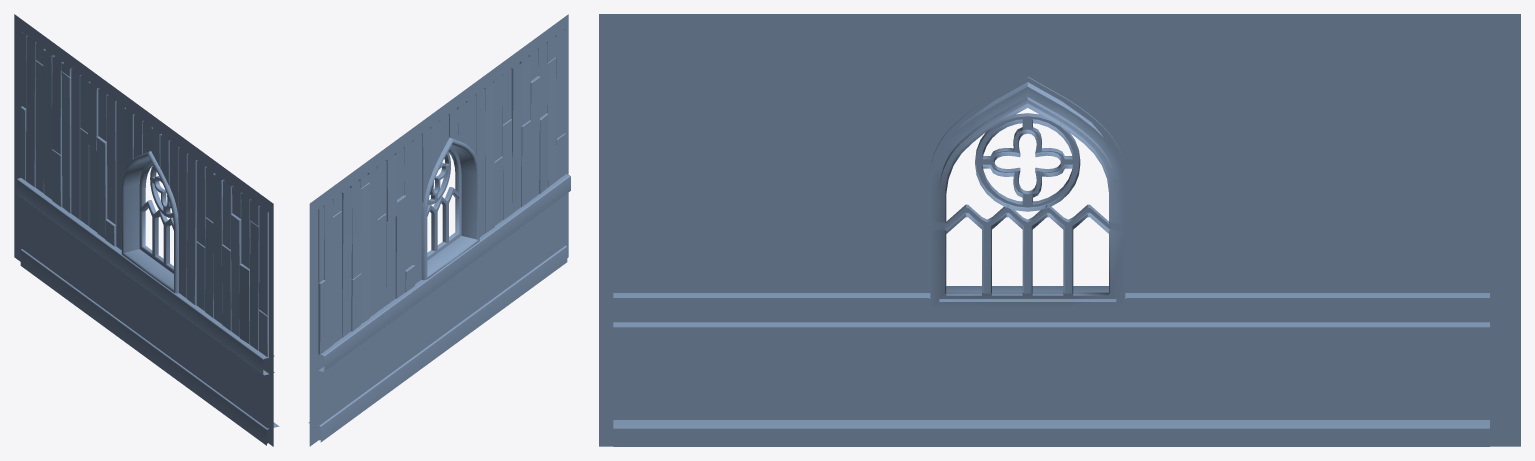
The model's file is HalloweenRoomA_EastWall.fbx.
The picture shows the model from 3 angles, left to right: view 1: azimuth 30°, elevation 25°; view 2: azimuth 150°, elevation 25°; view 3: azimuth 270°, elevation 25°; orthographic projection. The views are drawn at different scales.
Parts seen in each view (by area): view 1: HalloweenRoomA_EastWall; view 2: HalloweenRoomA_EastWall; view 3: HalloweenRoomA_EastWall.
Part boxes in pixels (x1=…): HalloweenRoomA_EastWall: x1=14, y1=14, x2=279, y2=446; HalloweenRoomA_EastWall: x1=308, y1=14, x2=570, y2=446; HalloweenRoomA_EastWall: x1=599, y1=14, x2=1520, y2=446.
Bounding box in the file's own units: 29.2 × 312 × 598.
